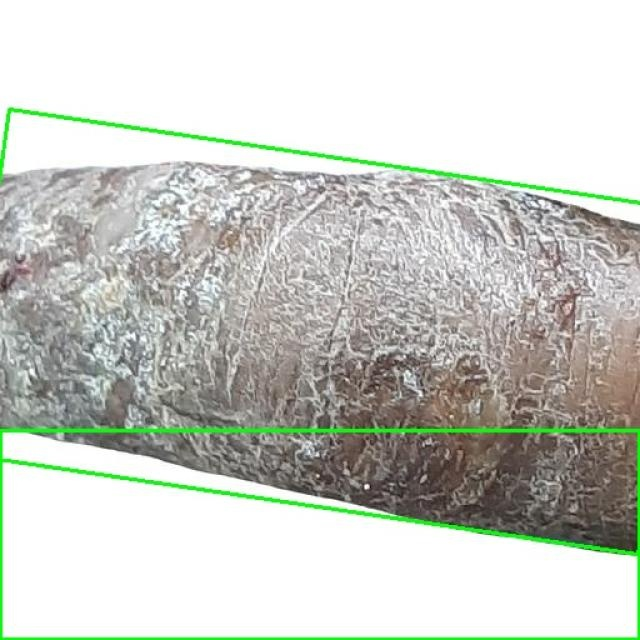Eczema: (0, 110, 640, 554), (0, 430, 639, 639)
